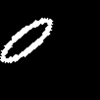chain: (0, 18, 52, 62)
